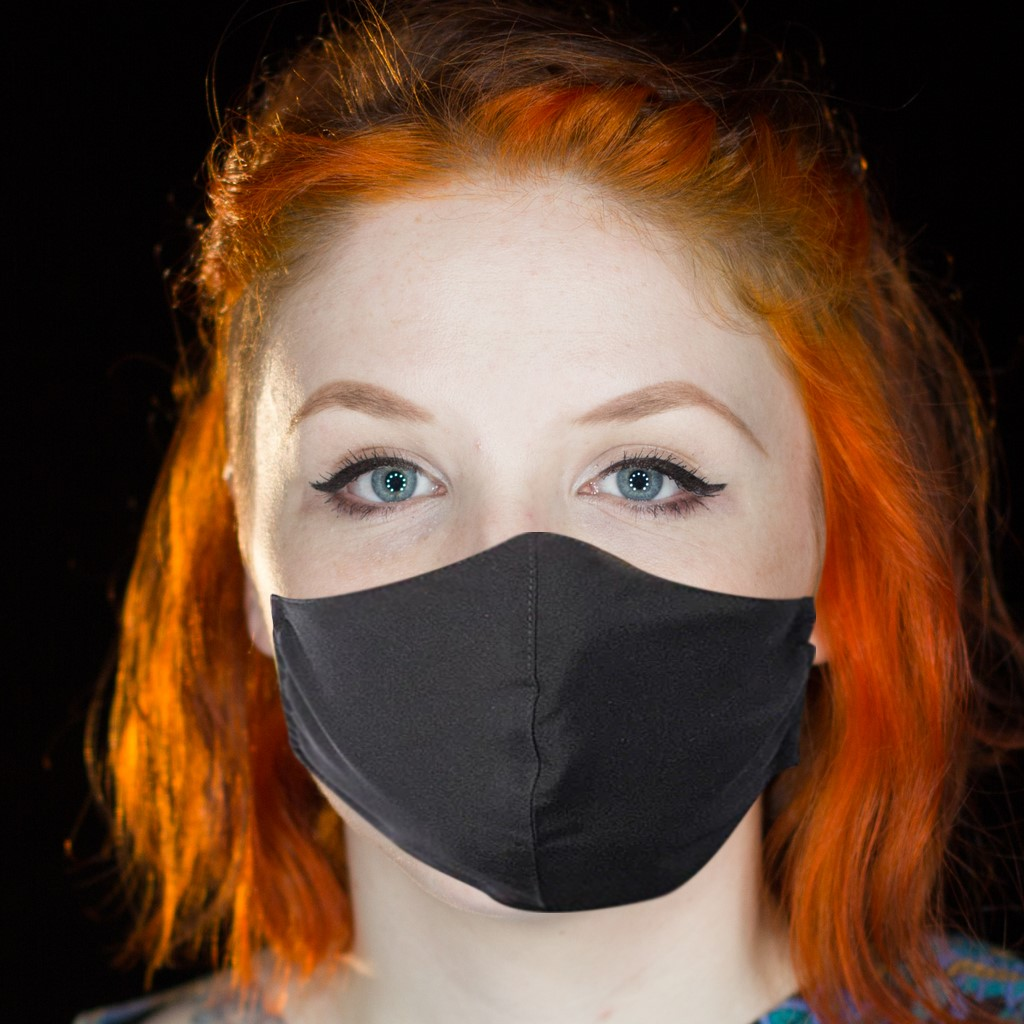con_mascara: (217, 152, 839, 908)
